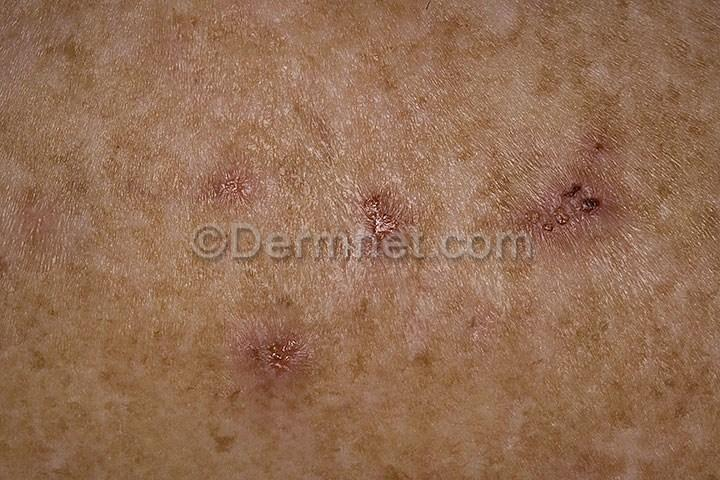Eczema: (514, 113, 670, 248), (216, 302, 372, 415), (342, 152, 443, 232), (186, 143, 272, 213)
